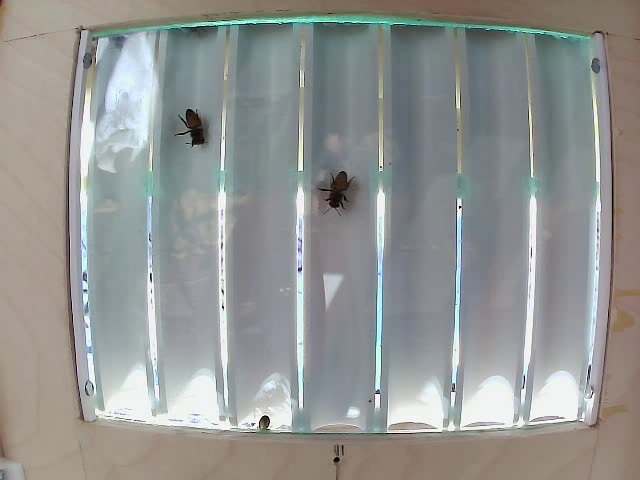bee: (321, 164, 374, 217), (176, 110, 216, 154)
